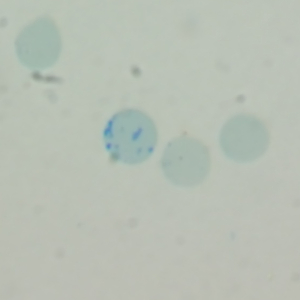aggregate reticulocyte: (102, 107, 159, 164)
erythrocyte: (12, 13, 64, 72), (218, 113, 270, 164)
punctate reticulocyte: (158, 133, 212, 187)
